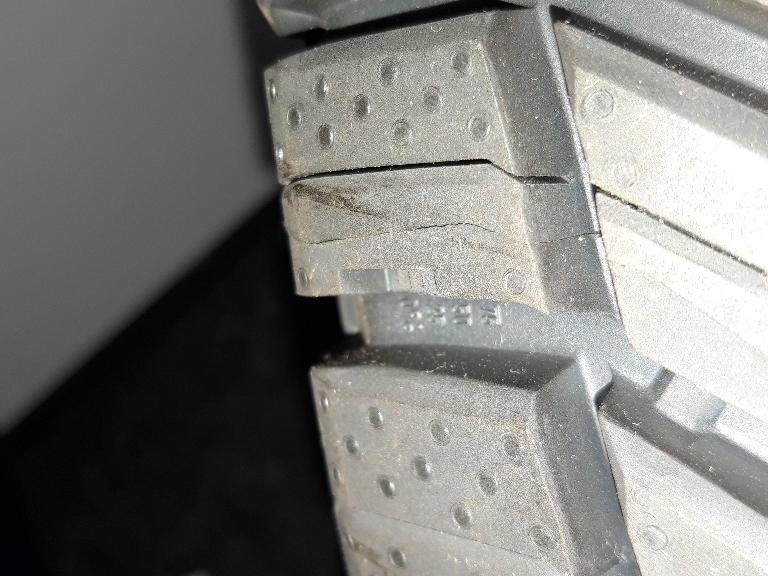temoin:100: (337, 267, 456, 302)
